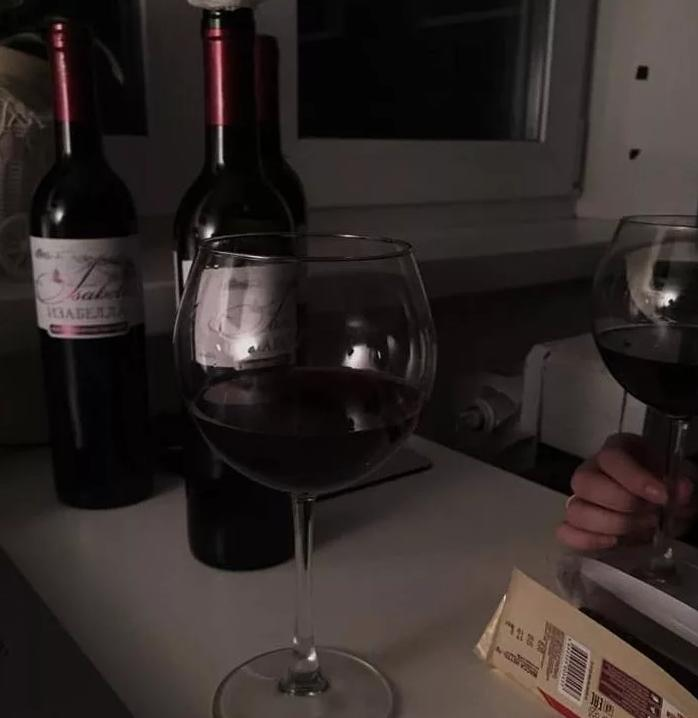wine bottle: (172, 8, 300, 573), (28, 17, 155, 511), (258, 35, 315, 423)
wine label: (181, 260, 297, 371), (31, 235, 144, 338)
